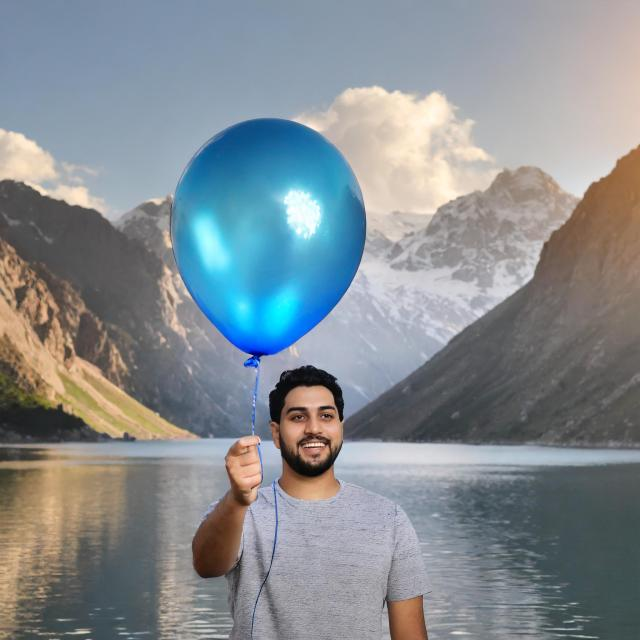blue: (171, 118, 368, 362)
